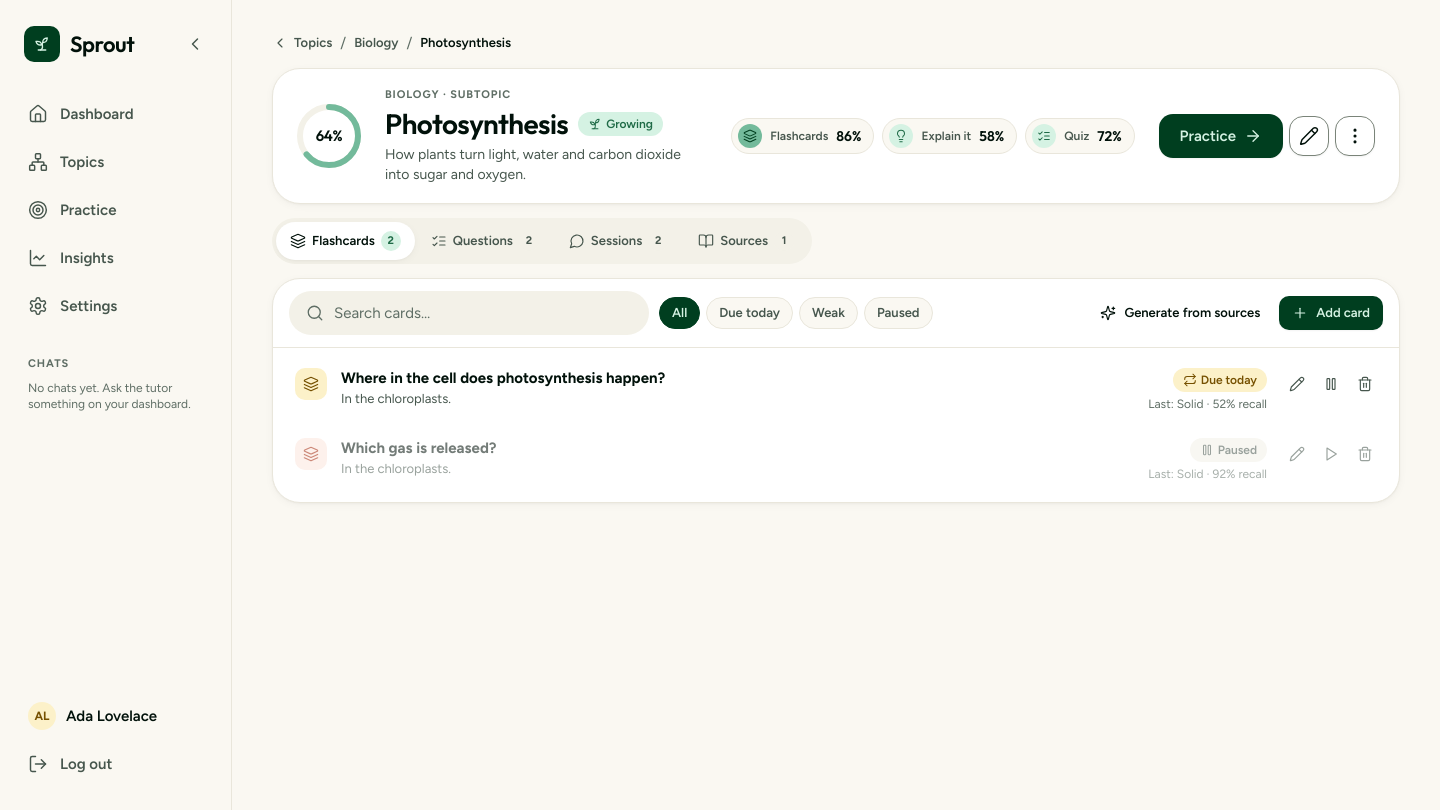
it: SubtopicView › adds a card and keeps your text when the API refuses it
Click the button with test id "add-card": (1331, 313) [1279,296,1383,330]
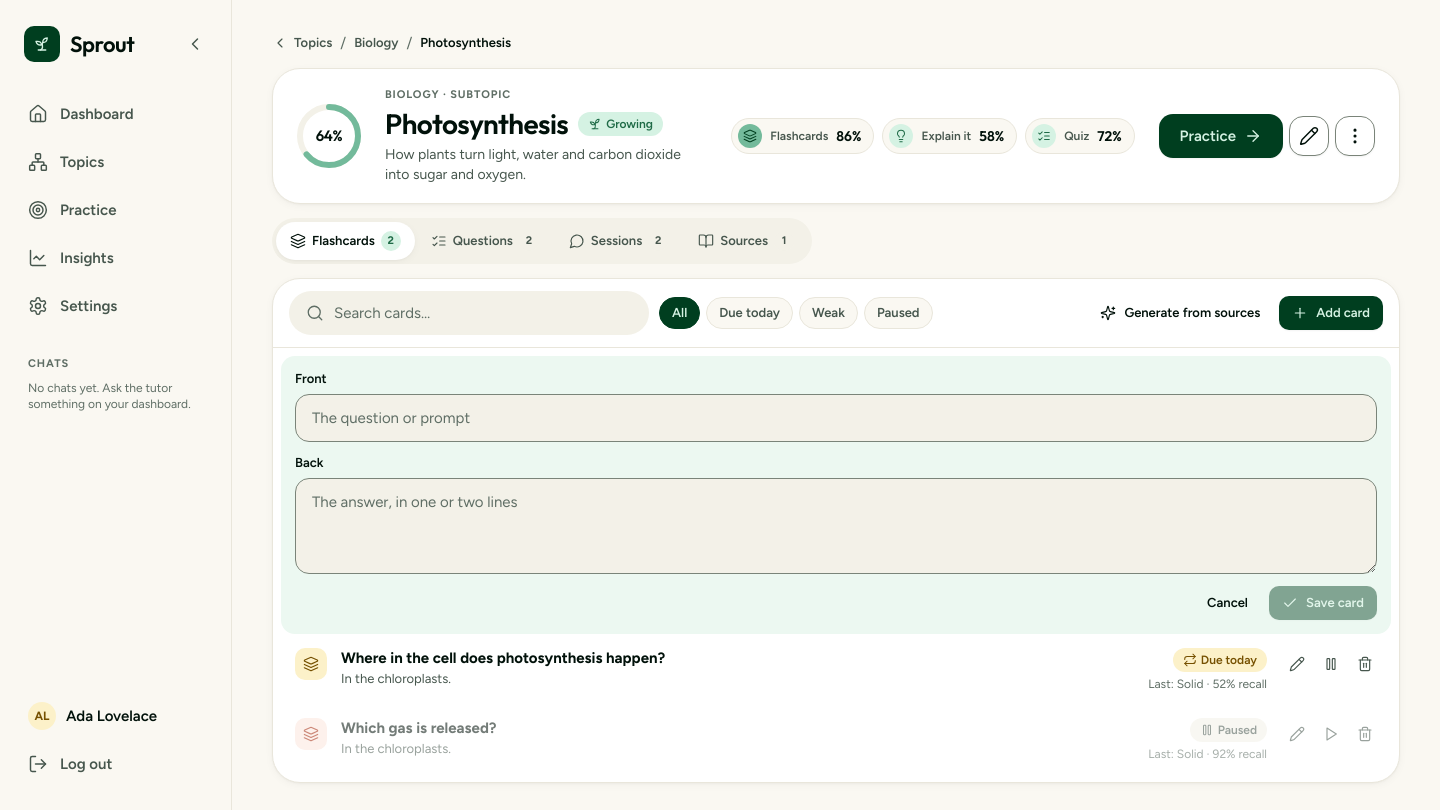
Check: the button with test id "save-card" is disabled, box [1269,586,1377,620]
In the field with test id "card-front": (840, 418) [312,395,1368,441], type "What does ATP do?"
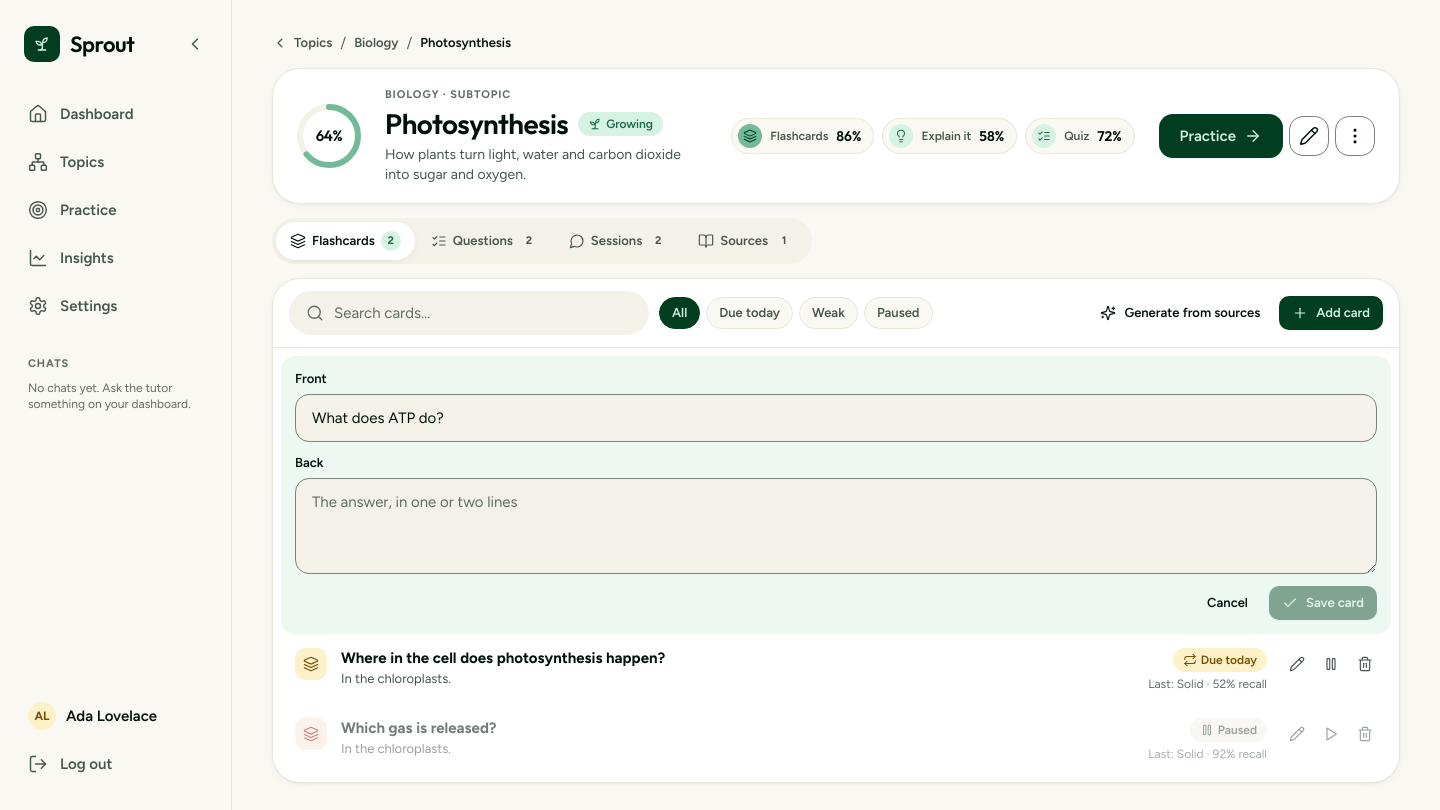
In the text box with test id "card-back": (836, 526) [295,478,1377,574], type "It supplies the energy."
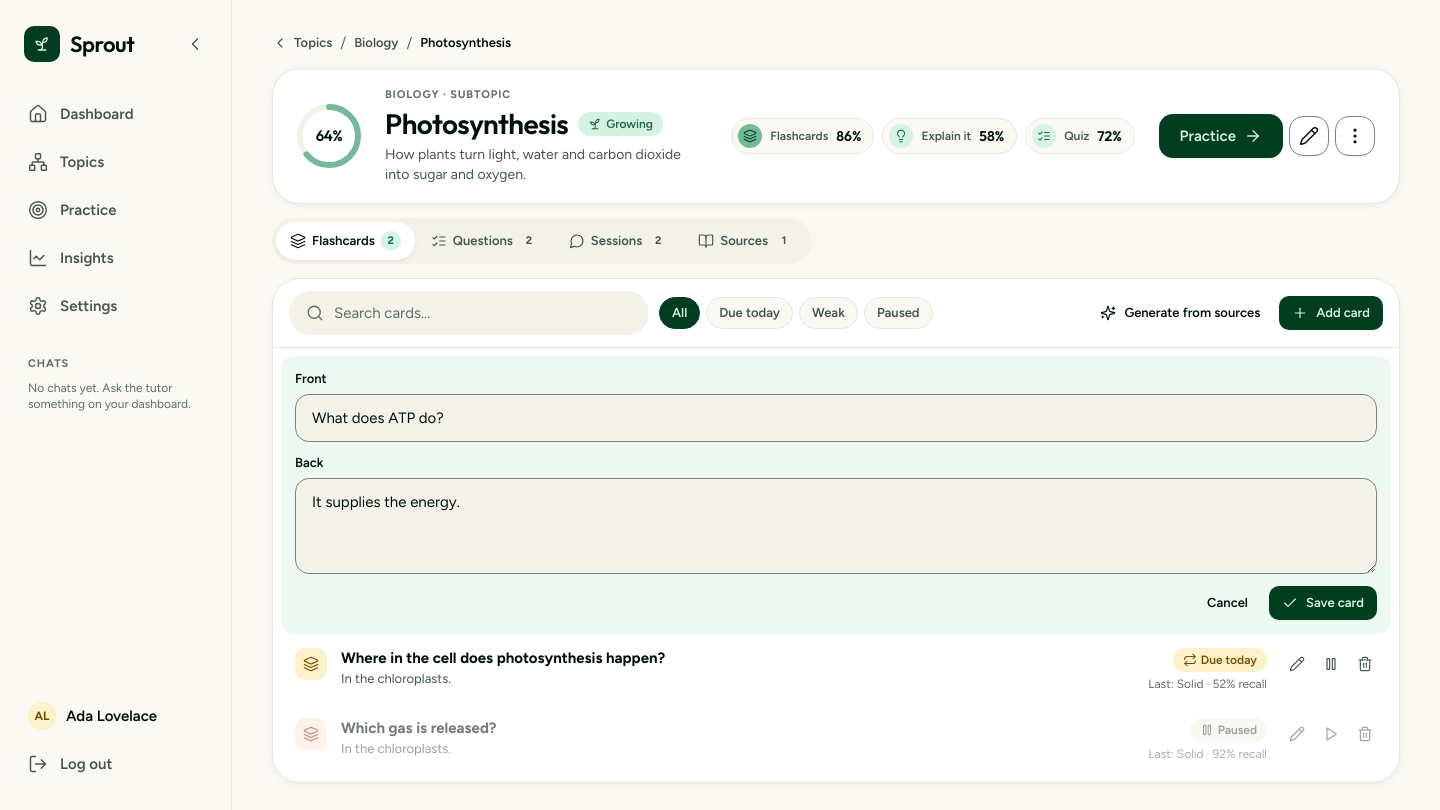
Submit the form with test id "card-editor", box [281,356,1391,634]
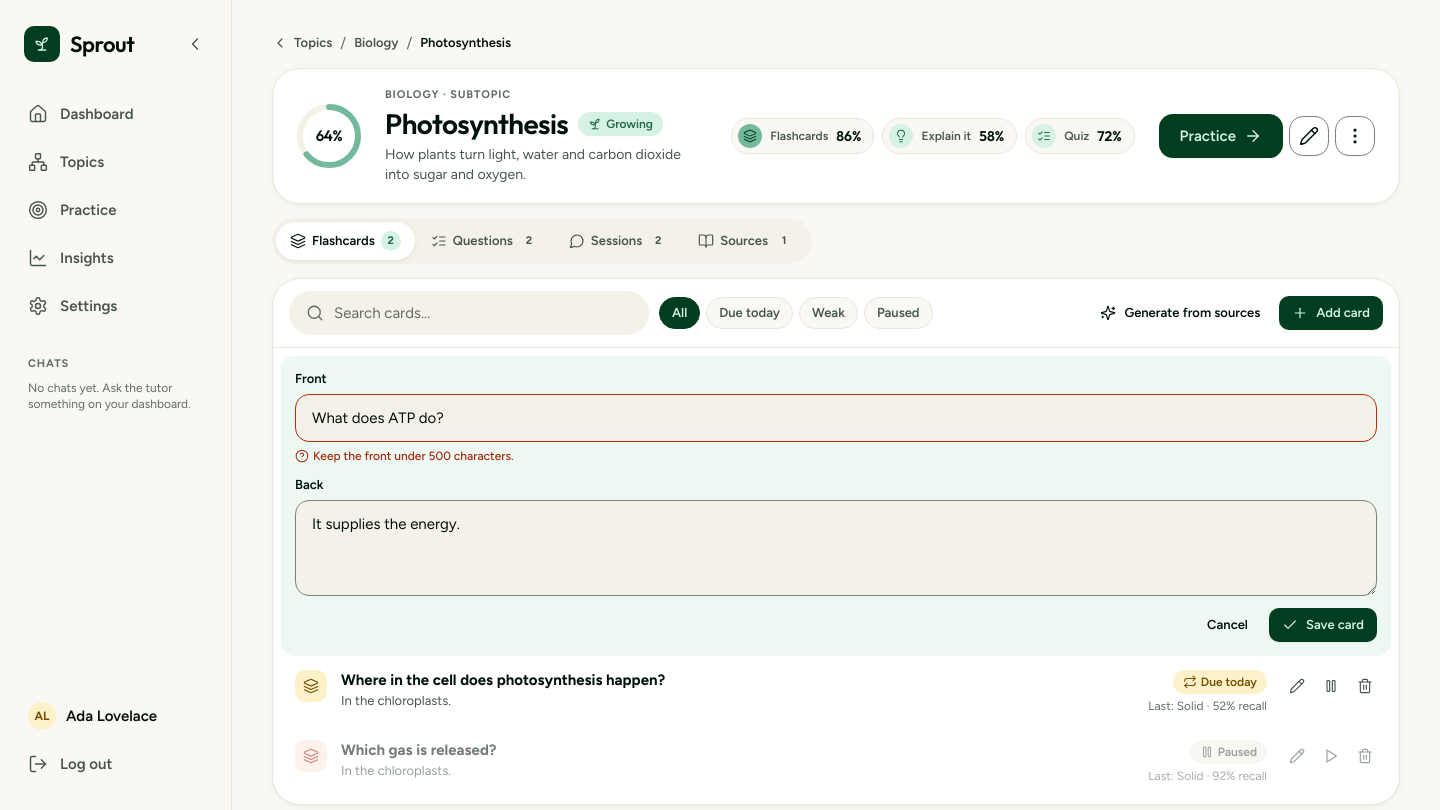
Check: the text "Keep the front under 500 characters." is shown, box [295,449,514,463]
Submit the form with test id "card-editor", box [281,356,1391,656]
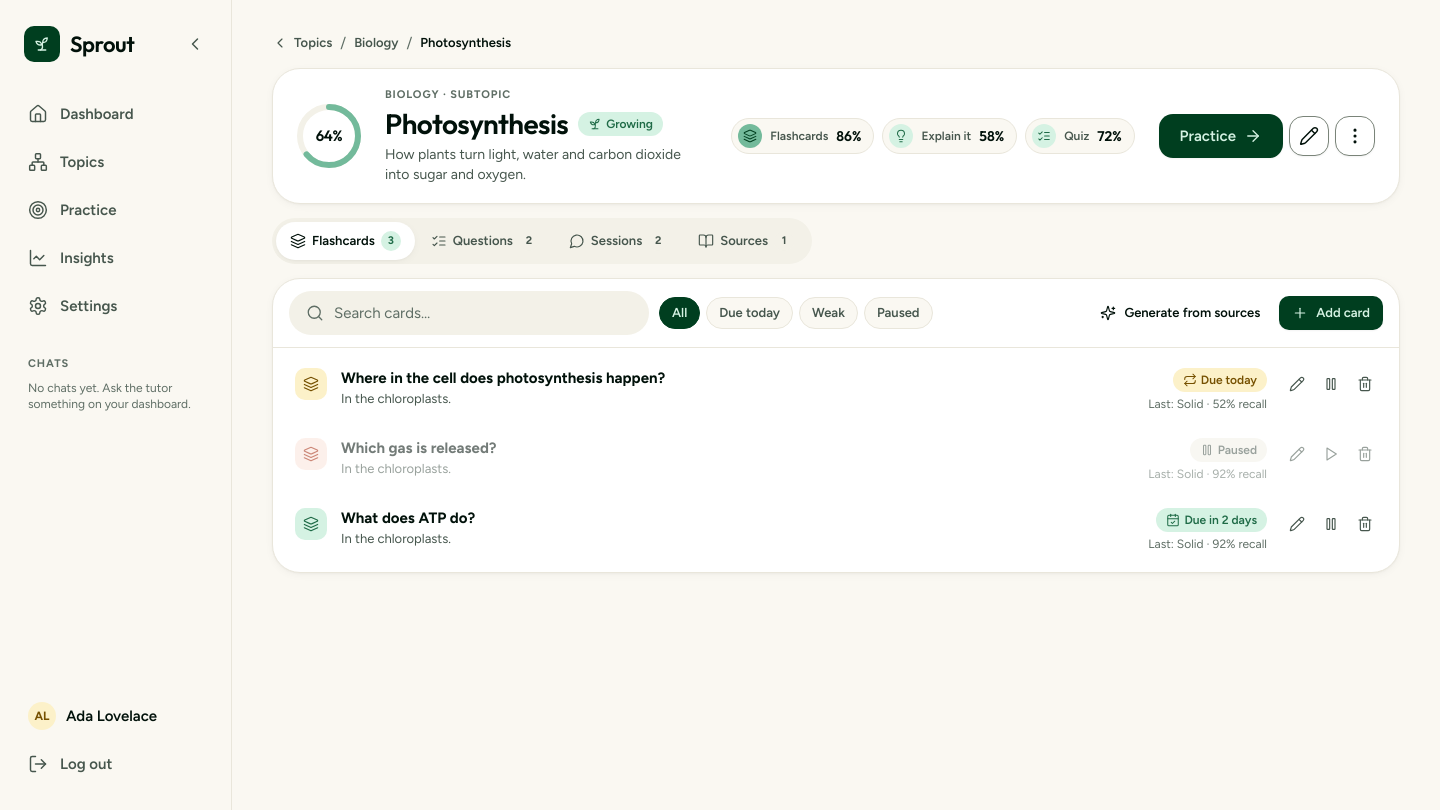
Check: the text "What does ATP do?" is shown, box [341,509,475,527]
